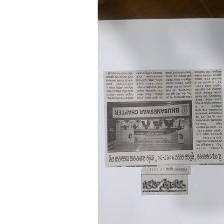news_paper: (101, 67, 223, 196)
